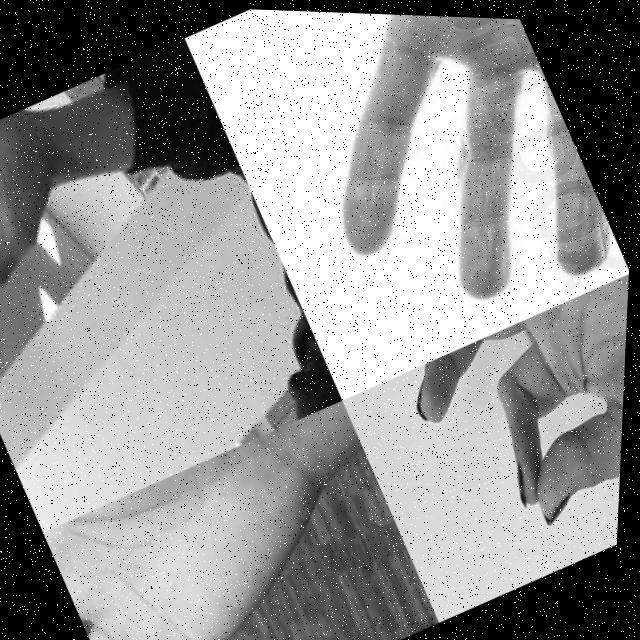no-gloves: (220, 7, 633, 366), (43, 415, 394, 640), (396, 260, 632, 570), (0, 108, 95, 328)
